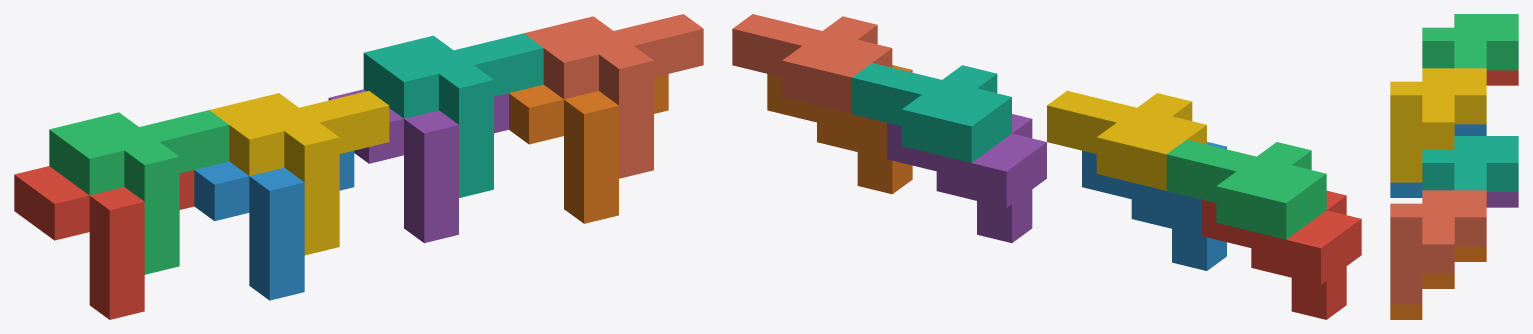
Rendered from tiling.obj.
3 views of the same model, side by side, from view 1: azimuth 30°, elevation 25°; view 2: azimuth 150°, elevation 25°; view 3: azimuth 270°, elevation 25° (orthographic). The views are drawn at different scales.
Parts seen in each view (by area): view 1: copy_1_domain_3, copy_1_domain_7, copy_1_domain_4, copy_1_domain_8, copy_1_domain_1, copy_1_domain_2, copy_1_domain_6, copy_1_domain_5; view 2: copy_1_domain_3, copy_1_domain_7, copy_1_domain_4, copy_1_domain_8, copy_1_domain_1, copy_1_domain_5, copy_1_domain_6, copy_1_domain_2; view 3: copy_1_domain_8, copy_1_domain_4, copy_1_domain_3, copy_1_domain_7, copy_1_domain_6, copy_1_domain_2, copy_1_domain_1, copy_1_domain_5.
Part boxes in pixels (<box>): copy_1_domain_3: <box>49,110,229,274</box>; copy_1_domain_7: <box>363,33,543,197</box>; copy_1_domain_4: <box>209,91,389,255</box>; copy_1_domain_8: <box>524,14,703,178</box>; copy_1_domain_1: <box>14,166,194,319</box>; copy_1_domain_2: <box>194,150,354,300</box>; copy_1_domain_6: <box>509,74,668,223</box>; copy_1_domain_5: <box>328,89,508,243</box>; copy_1_domain_3: <box>1166,139,1326,239</box>; copy_1_domain_7: <box>852,63,1011,162</box>; copy_1_domain_4: <box>1047,90,1206,190</box>; copy_1_domain_8: <box>732,14,892,113</box>; copy_1_domain_1: <box>1201,190,1361,319</box>; copy_1_domain_5: <box>887,114,1046,242</box>; copy_1_domain_6: <box>767,65,912,194</box>; copy_1_domain_2: <box>1082,142,1226,270</box>; copy_1_domain_8: <box>1390,190,1486,304</box>; copy_1_domain_4: <box>1390,68,1486,182</box>; copy_1_domain_3: <box>1422,14,1518,70</box>; copy_1_domain_7: <box>1422,136,1518,191</box>; copy_1_domain_6: <box>1390,246,1486,319</box>; copy_1_domain_2: <box>1390,124,1486,197</box>; copy_1_domain_1: <box>1486,70,1518,85</box>; copy_1_domain_5: <box>1486,192,1518,207</box>.
Bounding box in the file's own units: 18 × 4 × 4.
